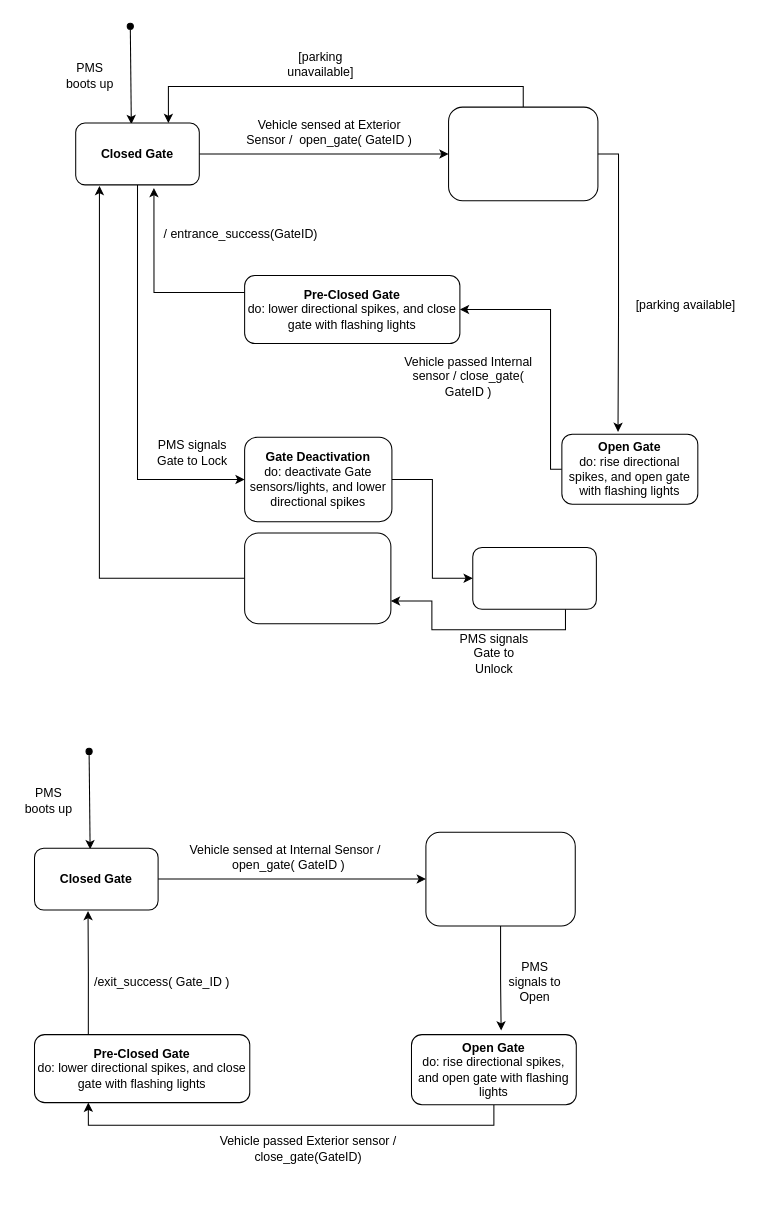
Some shapes in this 765 by 1210 pixel diagram are drawn without their labels. Each missing label, with the centre of its shape:
"Gate Reactivation do: reactivate gate sensors/lights" goes at point 317,578.
"Locked Gate" goes at point 534,577.
"Pre-Opened Gate do: analyze PMS signal" goes at point 500,878.
"Pre-Opened Gate do: verify availability" goes at point 523,153.
